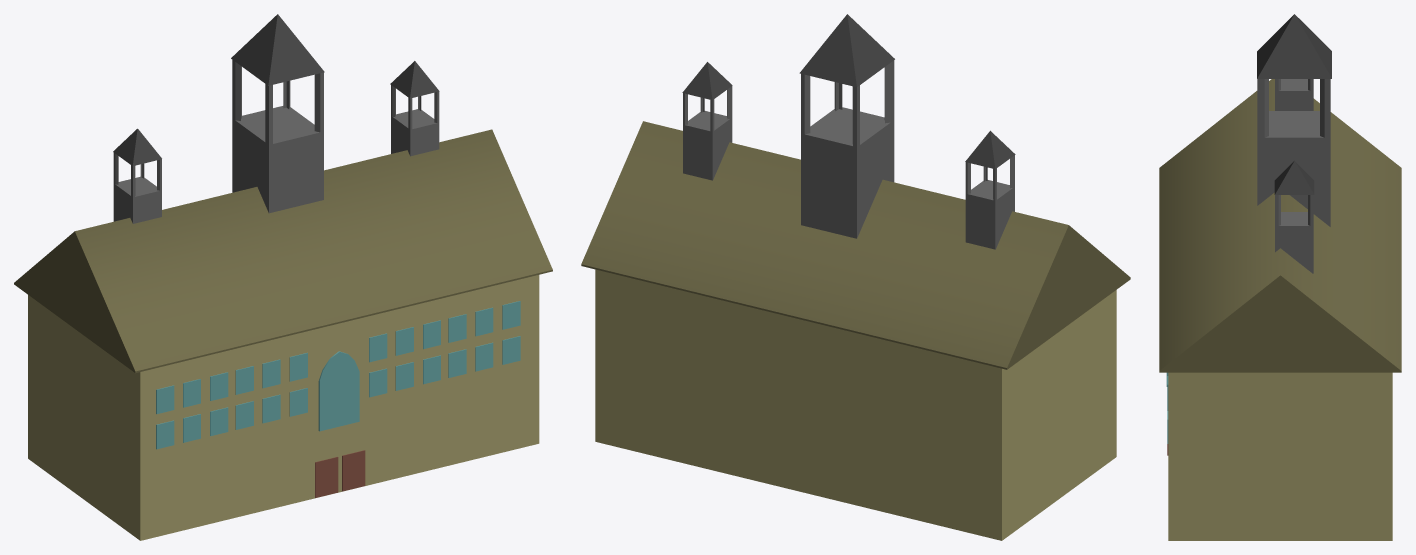
The model's file is Building.fbx.
The picture shows the model from 3 angles, left to right: view 1: azimuth 30°, elevation 25°; view 2: azimuth 150°, elevation 25°; view 3: azimuth 270°, elevation 25°; orthographic projection. The views are drawn at different scales.
Parts seen in each view (by area): view 1: Building; view 2: Building; view 3: Building.
Boxes of the visible parts, box(x1,y1,x2,y2) form: Building: box(14, 14, 552, 540); Building: box(581, 14, 1130, 540); Building: box(1159, 14, 1401, 540).
Bounding box in the file's own units: 10.7 × 10.57 × 5.38.
